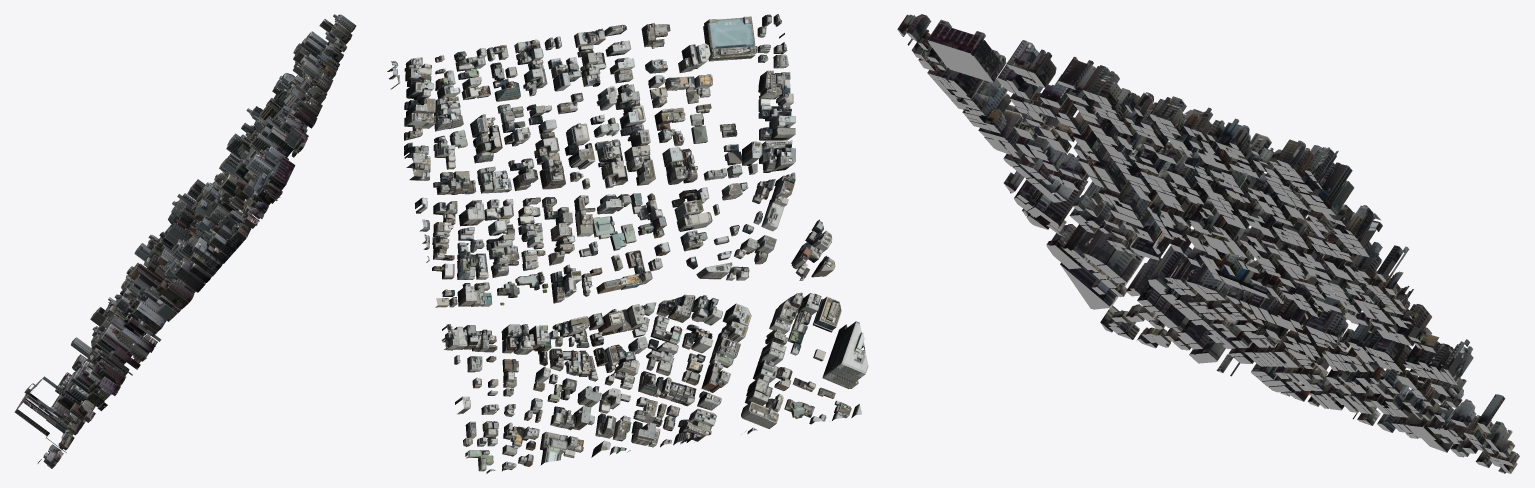
File: 9884_bldg_Building.glb
The picture shows the model from 3 angles, left to right: view 1: azimuth 30°, elevation 25°; view 2: azimuth 150°, elevation 25°; view 3: azimuth 270°, elevation 25°; orthographic projection. The views are drawn at different scales.
Size of the model in its own units: 582 by 433 by 565.
10 materials, 9 textured.
